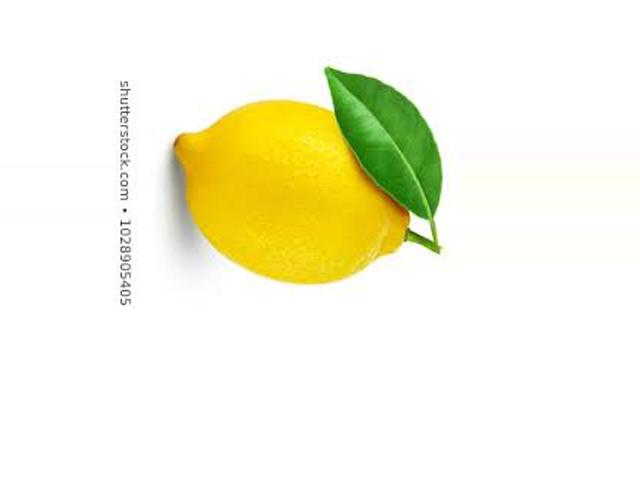lemon: (171, 74, 419, 290)
